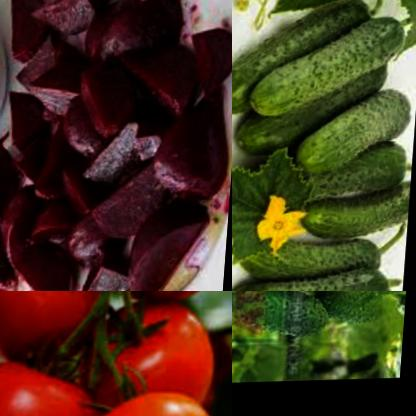beet: (1, 0, 232, 156), (0, 148, 225, 291)
cucumber: (247, 8, 414, 121), (232, 0, 378, 122), (232, 69, 390, 157), (266, 134, 416, 213), (305, 86, 416, 168), (294, 178, 416, 248), (242, 233, 403, 283), (246, 291, 358, 355), (232, 262, 405, 291), (232, 175, 256, 243)
tomato: (99, 291, 231, 416), (0, 291, 121, 363), (0, 346, 107, 416), (73, 385, 229, 416)
